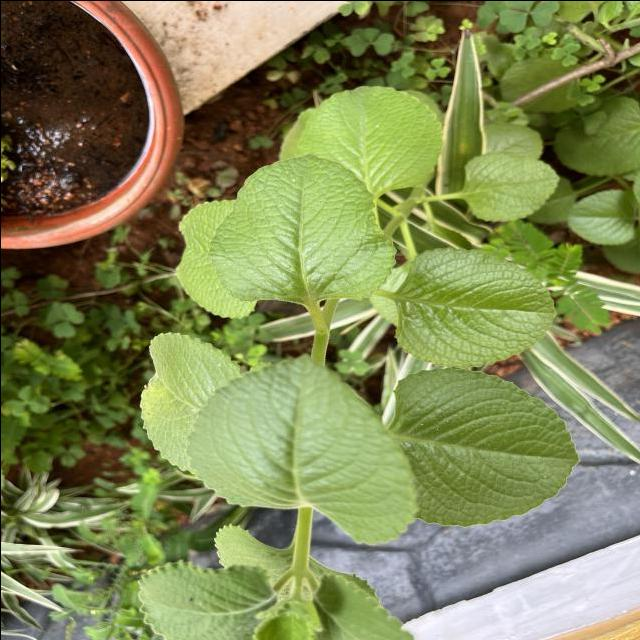Plectranthus barbatus: (184, 348, 420, 546), (387, 367, 581, 528), (205, 152, 396, 304), (392, 245, 558, 368), (294, 84, 442, 197), (460, 150, 560, 222), (552, 95, 640, 176), (564, 187, 636, 247)
